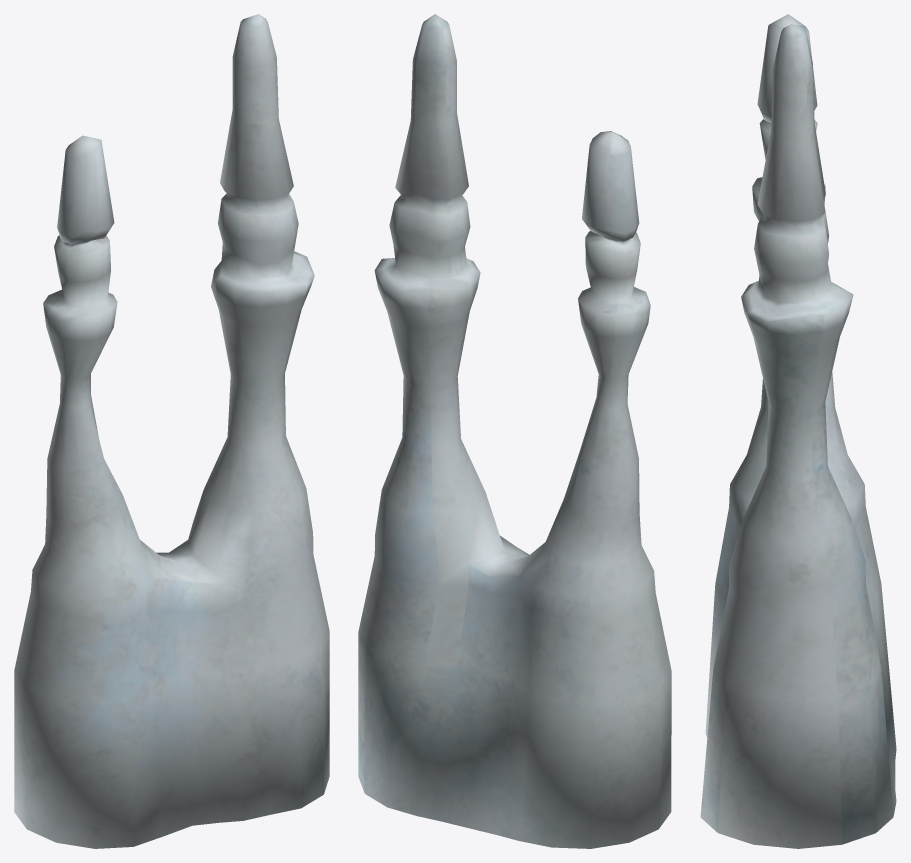
Rendered from P_RockDesert_Hoodoo10.obj.
3 views of the same model, side by side, from view 1: azimuth 30°, elevation 25°; view 2: azimuth 150°, elevation 25°; view 3: azimuth 270°, elevation 25° (orthographic). The views are drawn at different scales.
Bounding box in the file's own units: 9.16 × 22.73 × 5.09.
